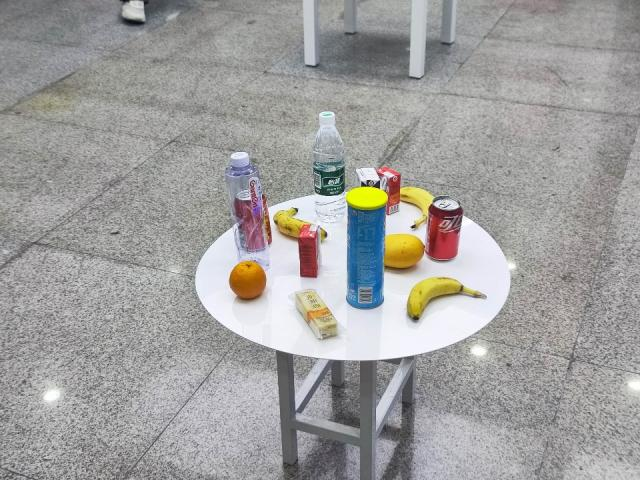Canned_drinks: (427, 191, 464, 262)
bottle: (311, 102, 347, 228), (228, 156, 270, 263)
cylinder: (338, 186, 385, 316)
drink_box: (298, 222, 327, 284)
